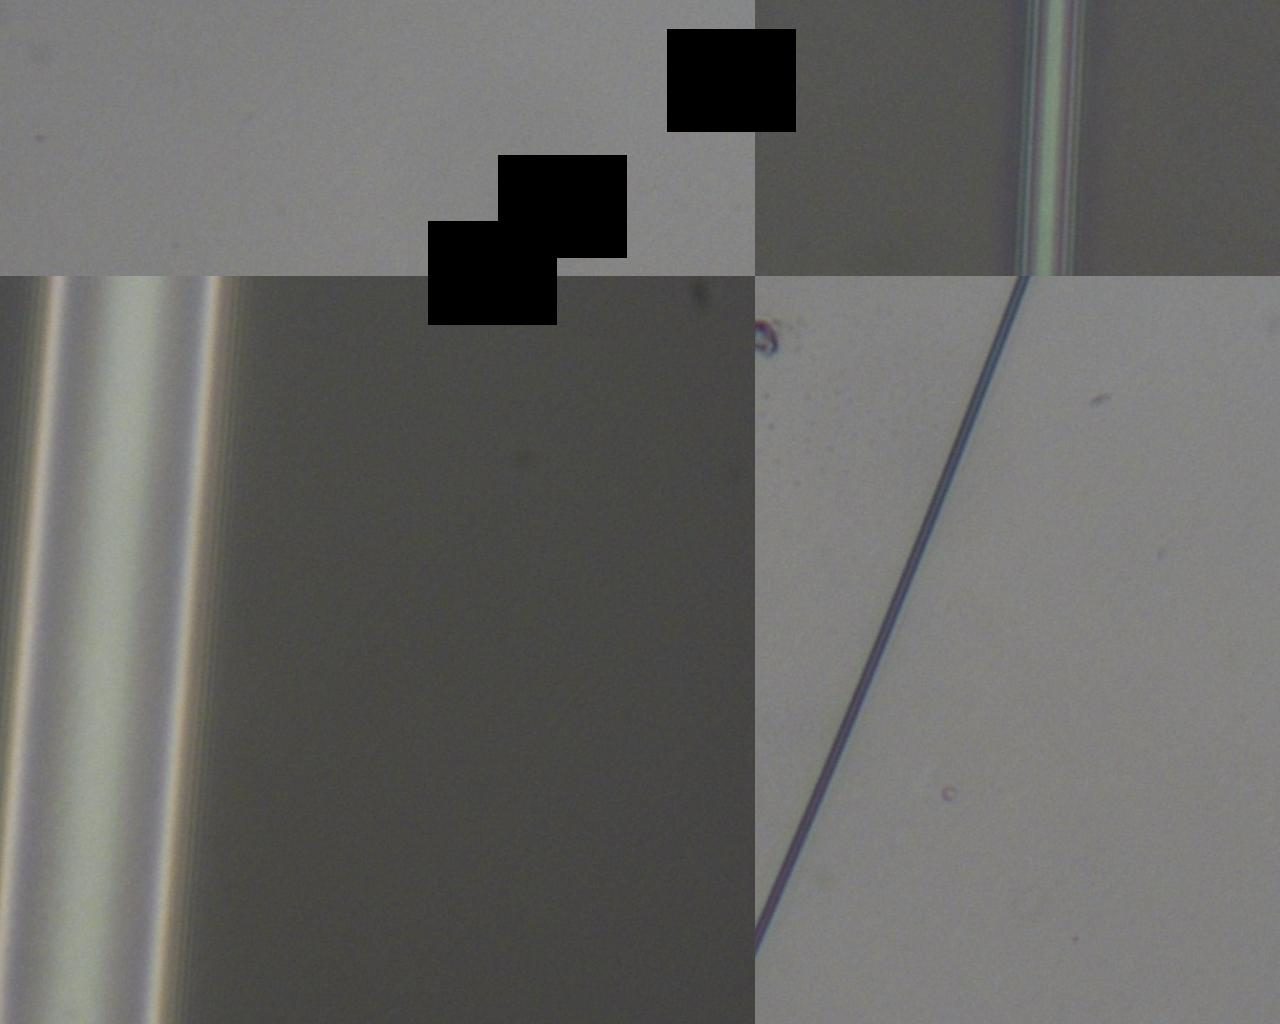fiber: (308, 460, 1280, 704), (325, 0, 1280, 163), (1, 0, 213, 460)
